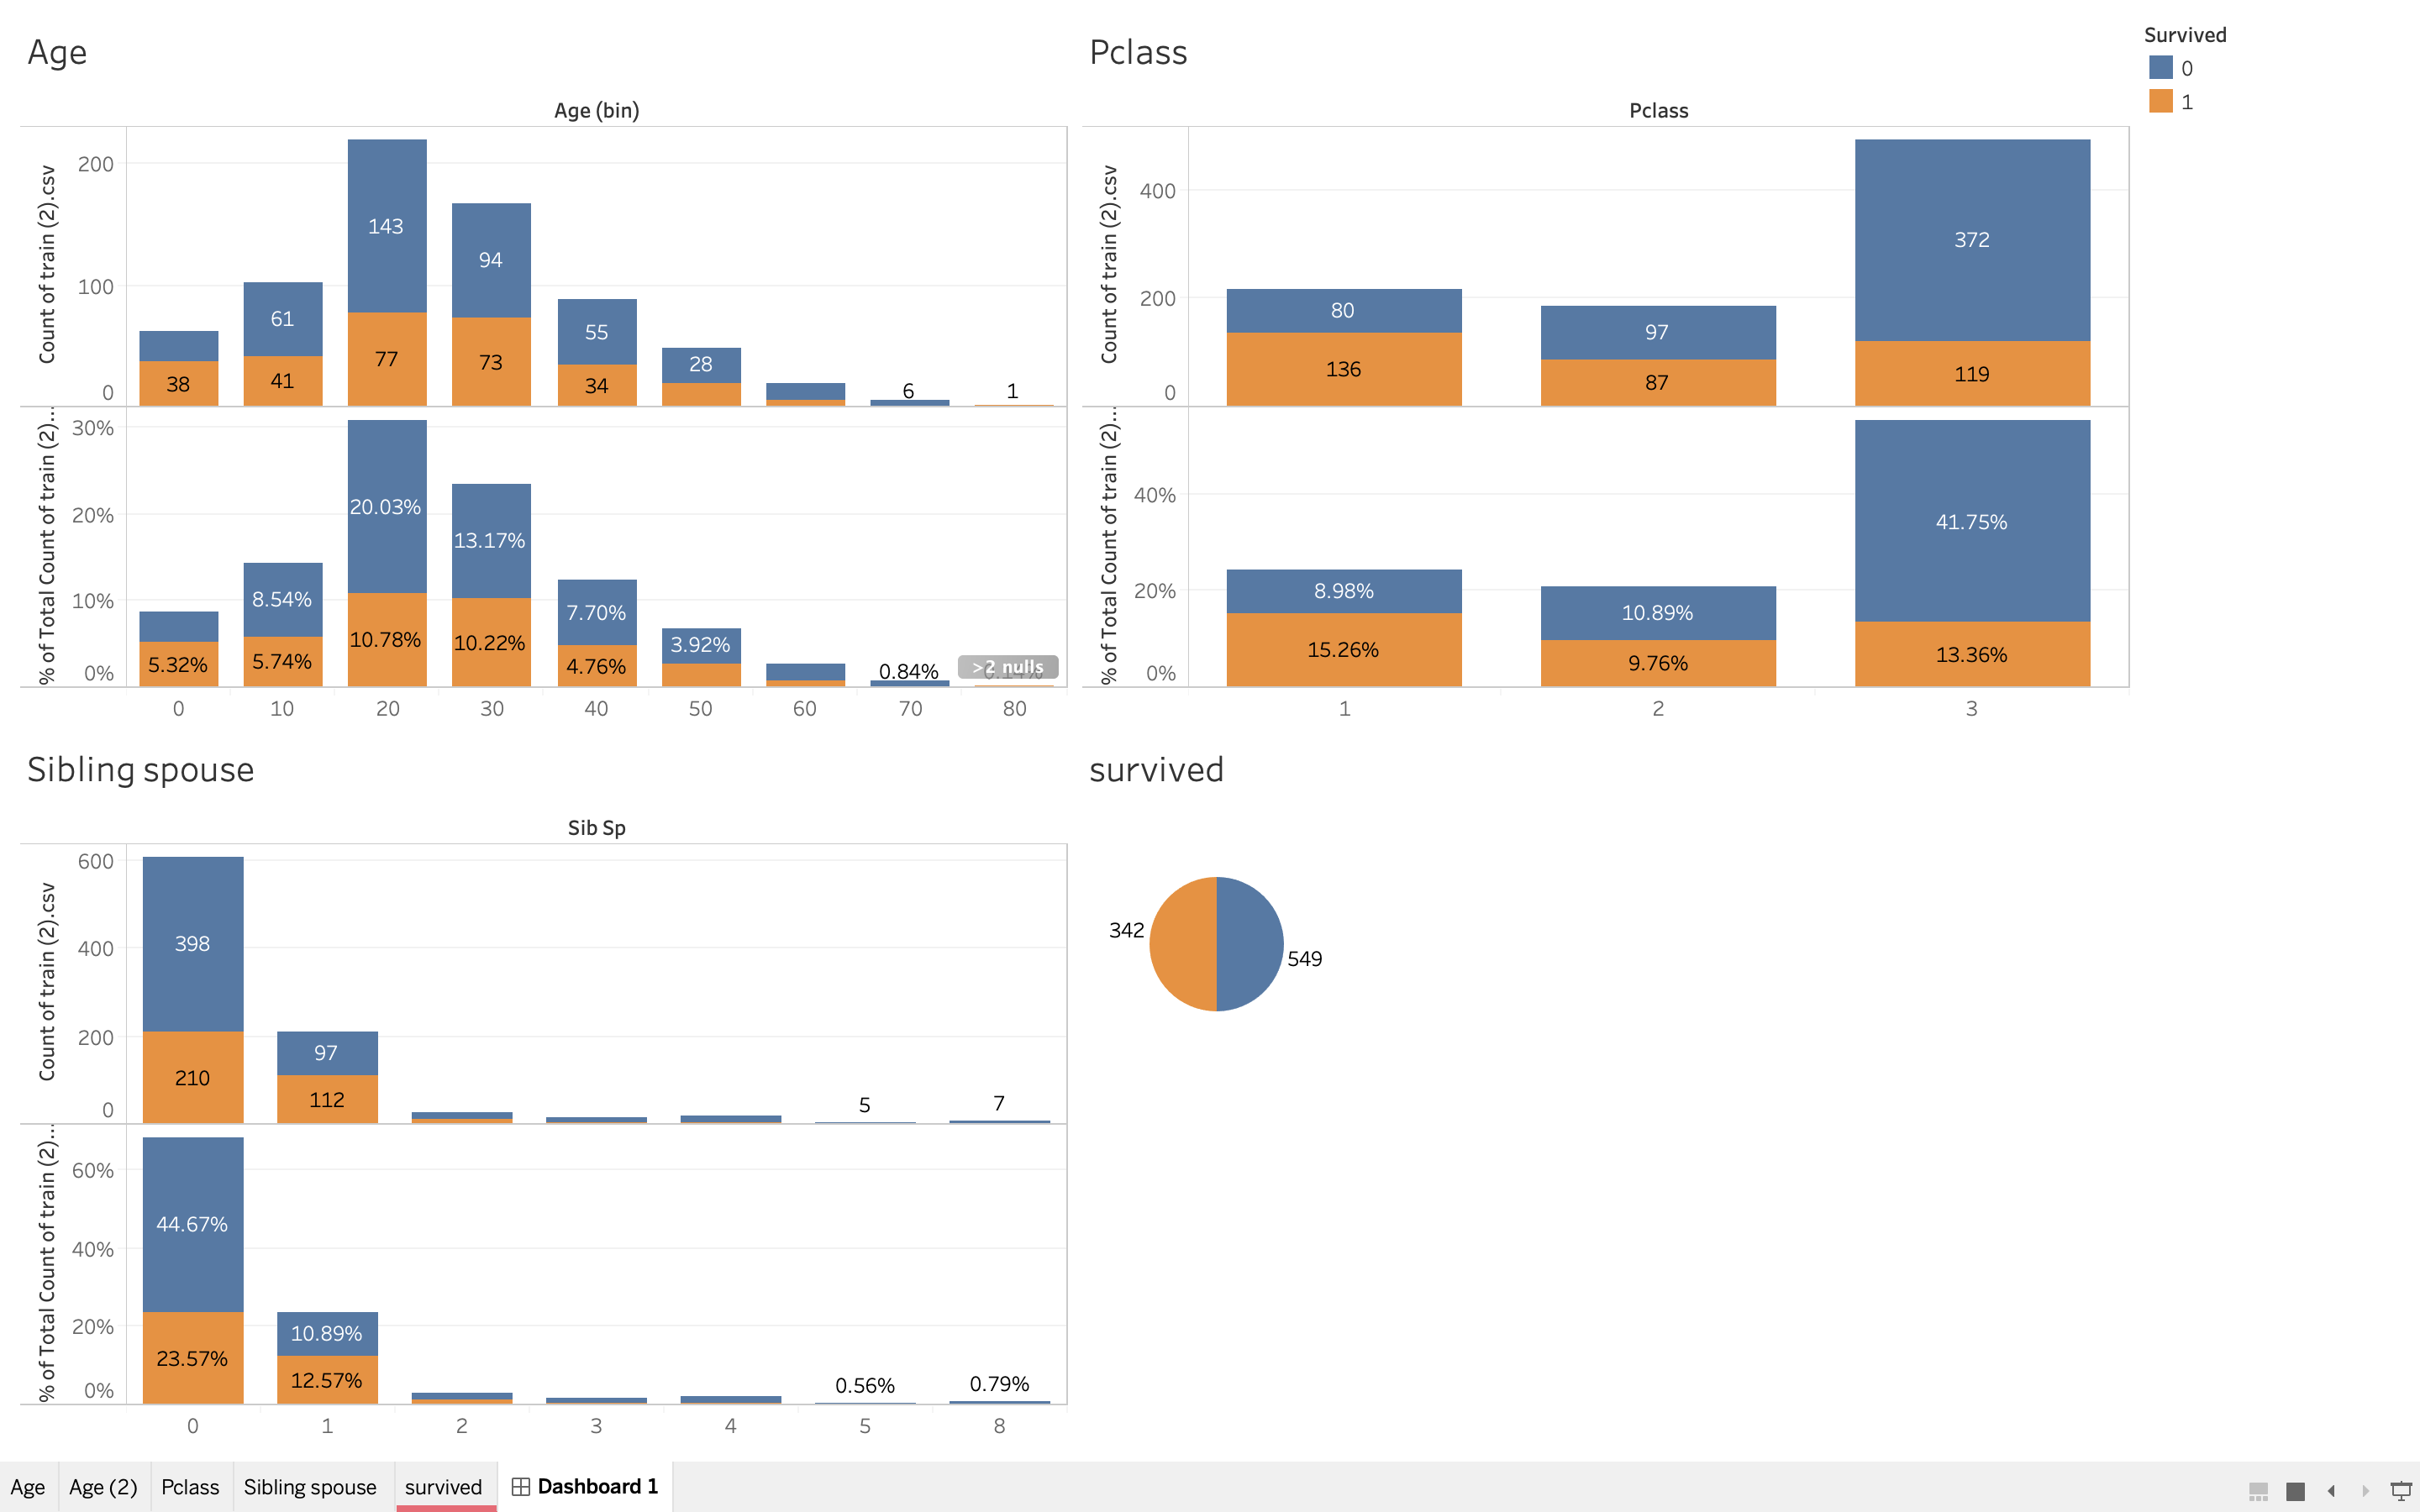

The dashboard page shown, as its layout file describes it:
{"tool":"tableau","page":{"name":"Dashboard 1","canvas":[1000,1000],"units":"permille","ordinal":0},"visuals":[{"type":"worksheet","box":[0,0,1000,1000]},{"type":"worksheet","param":"horz","box":[6.5,11.4,987,977.1]},{"type":"worksheet","box":[6.5,11.4,856.8,977.1]},{"type":"worksheet","title":"Age","mark":"Automatic","rows":["train (2).csv_291789E2277E4C0982864AA04718AB13","train (2).csv_291789E2277E4C0982864AA04718AB13"],"cols":["Age (bin)"],"box":[6.5,11.4,428.4,488.6]},{"type":"worksheet","title":"Pclass","mark":"Automatic","rows":["train (2).csv_291789E2277E4C0982864AA04718AB13","train (2).csv_291789E2277E4C0982864AA04718AB13"],"cols":["Pclass"],"box":[434.9,11.4,428.4,488.6]},{"type":"worksheet","param":"vert","box":[863.3,11.4,130.2,977.1]},{"type":"worksheet","title":"Age","mark":"Automatic","rows":["train (2).csv_291789E2277E4C0982864AA04718AB13","train (2).csv_291789E2277E4C0982864AA04718AB13"],"cols":["Age (bin)"],"param":"[federated.17gu4bi17mkxd00zq3mt41y8j8gm].[none:Survived:ok]","box":[863.3,11.4,130.2,94.4]},{"type":"worksheet","title":"survived","mark":"Pie","param":"[federated.17gu4bi17mkxd00zq3mt41y8j8gm].[__tableau_internal_object_id__].[cnt:t","box":[863.3,105.9,130.2,31.5]},{"type":"worksheet","title":"Sibling spouse","mark":"Automatic","rows":["train (2).csv_291789E2277E4C0982864AA04718AB13","train (2).csv_291789E2277E4C0982864AA04718AB13"],"cols":["SibSp"],"box":[6.5,500,428.4,488.6]},{"type":"worksheet","title":"survived","mark":"Pie","box":[434.9,500,428.4,488.6]}]}

Visuals, with their boxes on the dashboard's canvas, which has no fixed pixel size, in thousandths of its width and height (x1, y1, x2, y2). These are canvas units, not pixel positions in the 2420x1512 screenshot, which may show the page scaled, cropped or inside an application window:
worksheet: bbox(0, 0, 1000, 1000)
worksheet: bbox(6, 11, 994, 988)
worksheet: bbox(6, 11, 863, 988)
"Age" worksheet: bbox(6, 11, 435, 500)
"Pclass" worksheet: bbox(435, 11, 863, 500)
worksheet: bbox(863, 11, 994, 988)
"Age" worksheet: bbox(863, 11, 994, 106)
"survived" worksheet (Pie marks): bbox(863, 106, 994, 137)
"Sibling spouse" worksheet: bbox(6, 500, 435, 989)
"survived" worksheet (Pie marks): bbox(435, 500, 863, 989)
